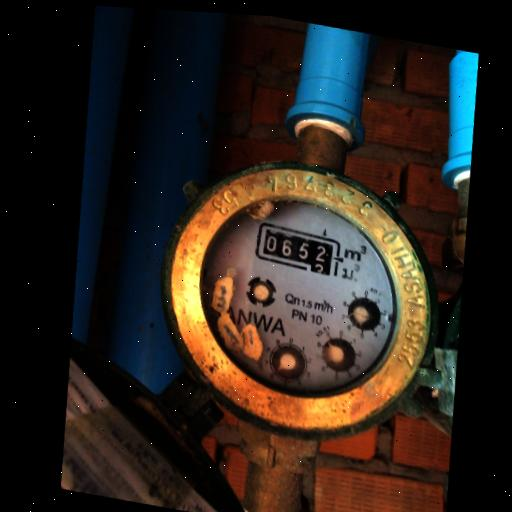0: (261, 228, 281, 256)
2: (308, 241, 334, 276)
5: (291, 236, 315, 264)
6: (275, 232, 298, 260)
border_water_meter_number: (251, 221, 343, 278)
